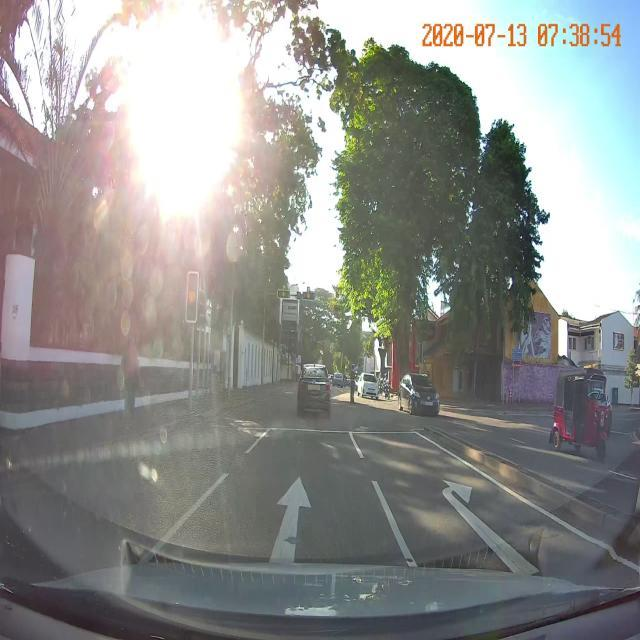forward: (146, 452, 419, 564)
